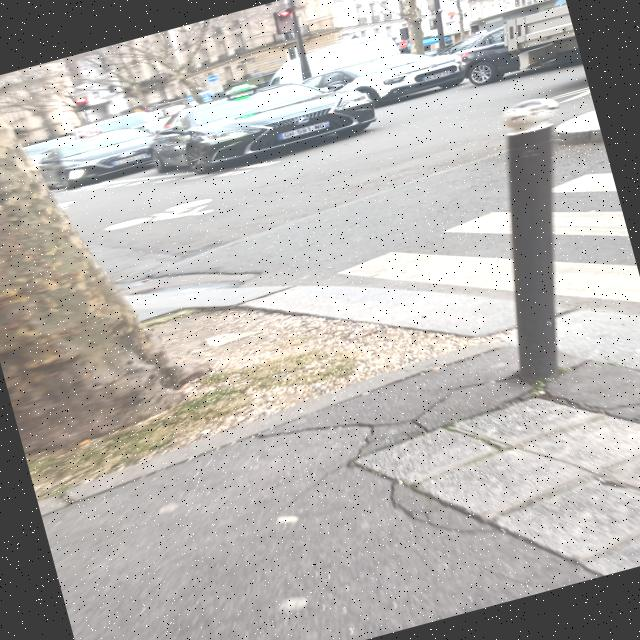EU: (278, 120, 332, 140)
France: (278, 133, 284, 139)
